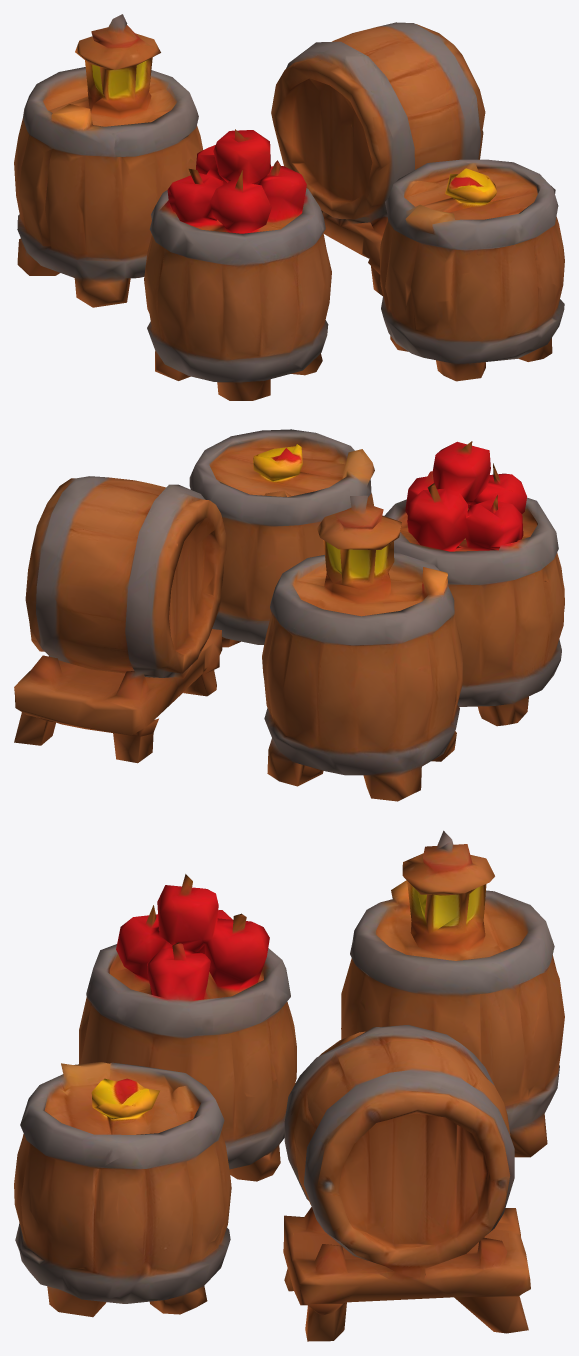
The model's file is camp_barrels-DLx3ew1k.glb.
The picture shows the model from 3 angles, top to bottom: view 1: azimuth 30°, elevation 25°; view 2: azimuth 150°, elevation 25°; view 3: azimuth 270°, elevation 25°; orthographic projection. The views are drawn at different scales.
Parts seen in each view (by area): view 1: tripo_node_c9ef9fbd-2990-428f-a459-8bd4f2b6c349; view 2: tripo_node_c9ef9fbd-2990-428f-a459-8bd4f2b6c349; view 3: tripo_node_c9ef9fbd-2990-428f-a459-8bd4f2b6c349.
Part boxes in pixels (bbox=[...]): tripo_node_c9ef9fbd-2990-428f-a459-8bd4f2b6c349: bbox=[14, 14, 564, 400]; tripo_node_c9ef9fbd-2990-428f-a459-8bd4f2b6c349: bbox=[14, 429, 564, 801]; tripo_node_c9ef9fbd-2990-428f-a459-8bd4f2b6c349: bbox=[14, 830, 564, 1341].
Bounding box in the file's own units: 0.9867 × 0.6599 × 1.
1 material, 1 textured.
